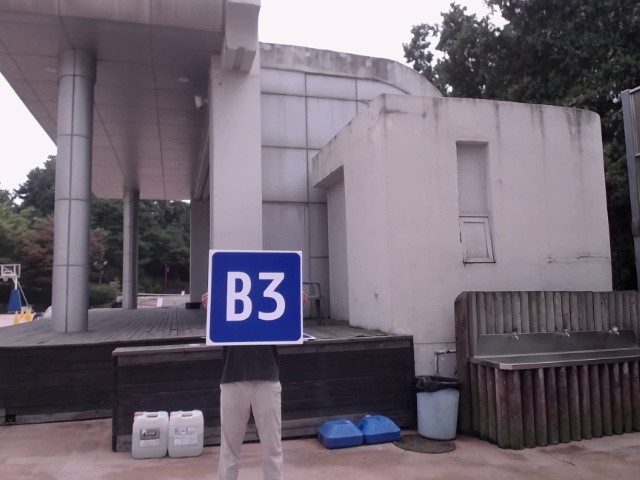delivery_b3: (210, 252, 303, 344)
